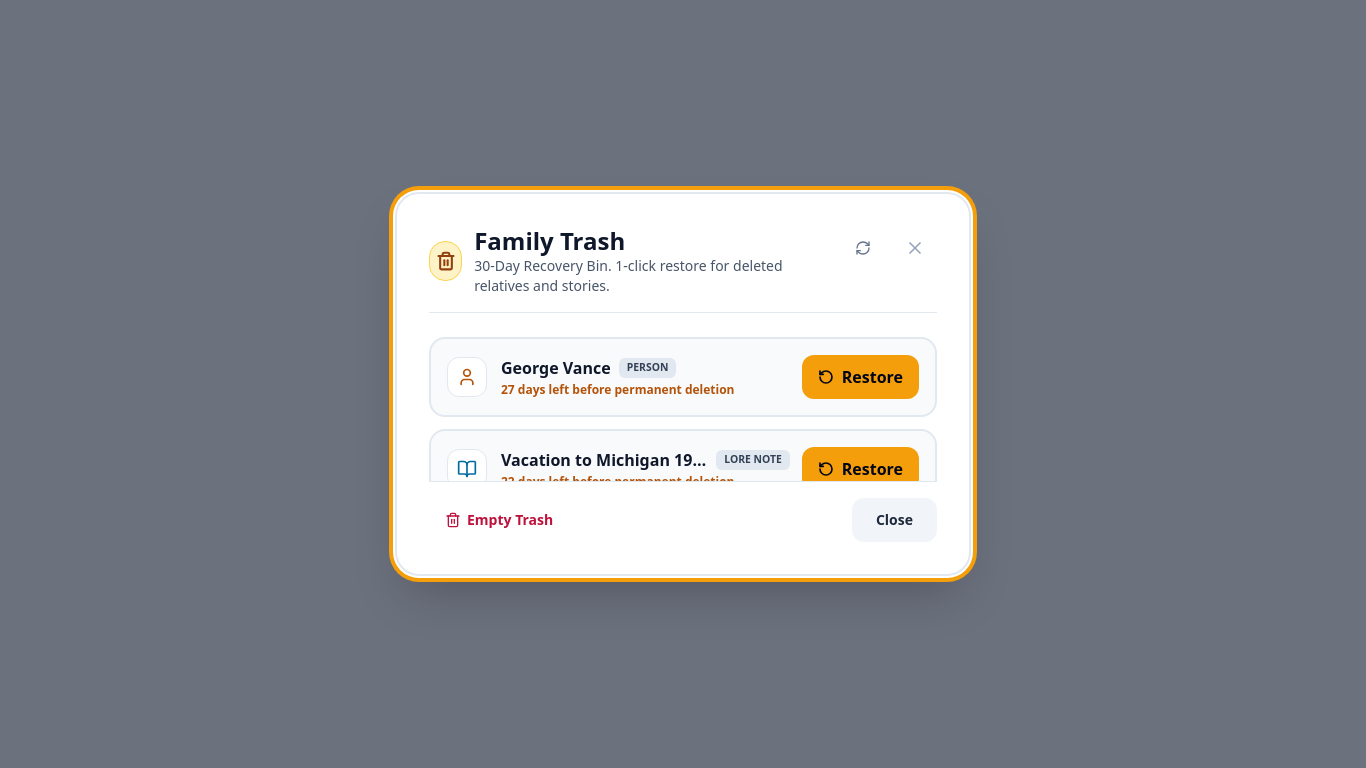
TrashCanModal › empties trash when Empty Trash is confirmed
This screenshot has width=1366, height=768.
Click the button "Empty Trash": point(499, 520) top-left (429, 498), bottom-right (569, 542)
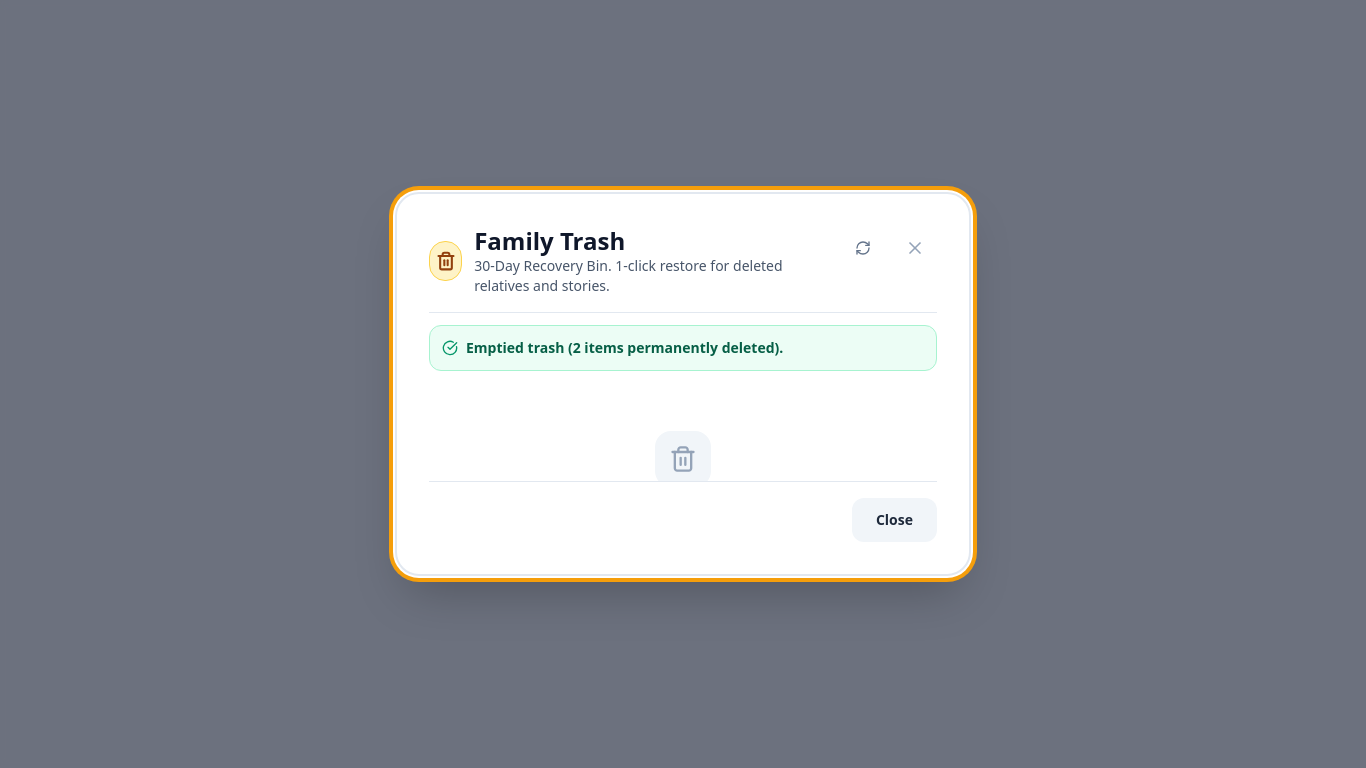
Expected: the text "Emptied trash (2 items permanently deleted)." is shown, top-left (466, 338), bottom-right (783, 358)
